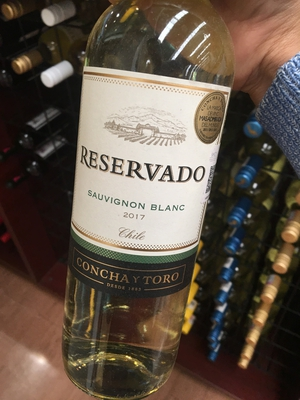reservado sauvignon blanc: (63, 10, 231, 397)
